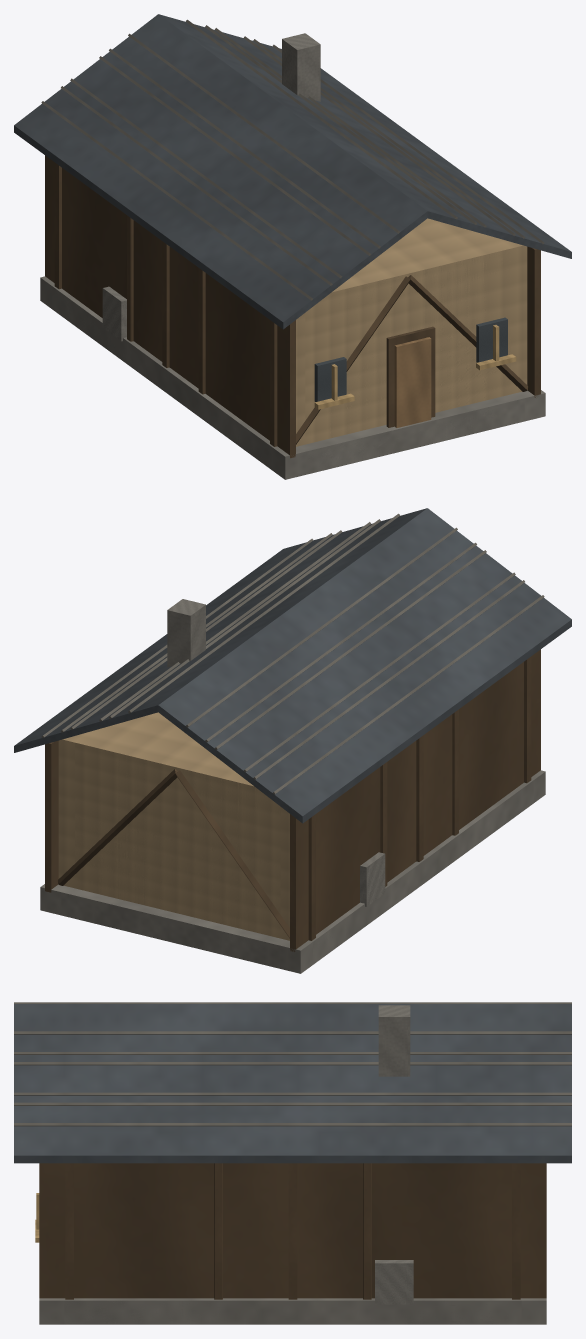
Rendered from MillHouse.fbx.
3 views of the same model, one above another, from view 1: azimuth 30°, elevation 25°; view 2: azimuth 150°, elevation 25°; view 3: azimuth 270°, elevation 25° (orthographic). The views are drawn at different scales.
Parts seen in each view (by area): view 1: MillHouseDetail0, MillHouseDetail1; view 2: MillHouseDetail0, MillHouseDetail1; view 3: MillHouseDetail0, MillHouseDetail1.
Boxes of the visible parts, box(x1,y1,x2,y2) form: MillHouseDetail0: box(14, 14, 571, 473); MillHouseDetail1: box(40, 25, 545, 479); MillHouseDetail0: box(14, 508, 571, 968); MillHouseDetail1: box(40, 519, 545, 973); MillHouseDetail0: box(14, 1002, 571, 1324); MillHouseDetail1: box(14, 1005, 571, 1324).
Bounding box in the file's own units: 715 × 632 × 1155.
1 material, 1 textured.
